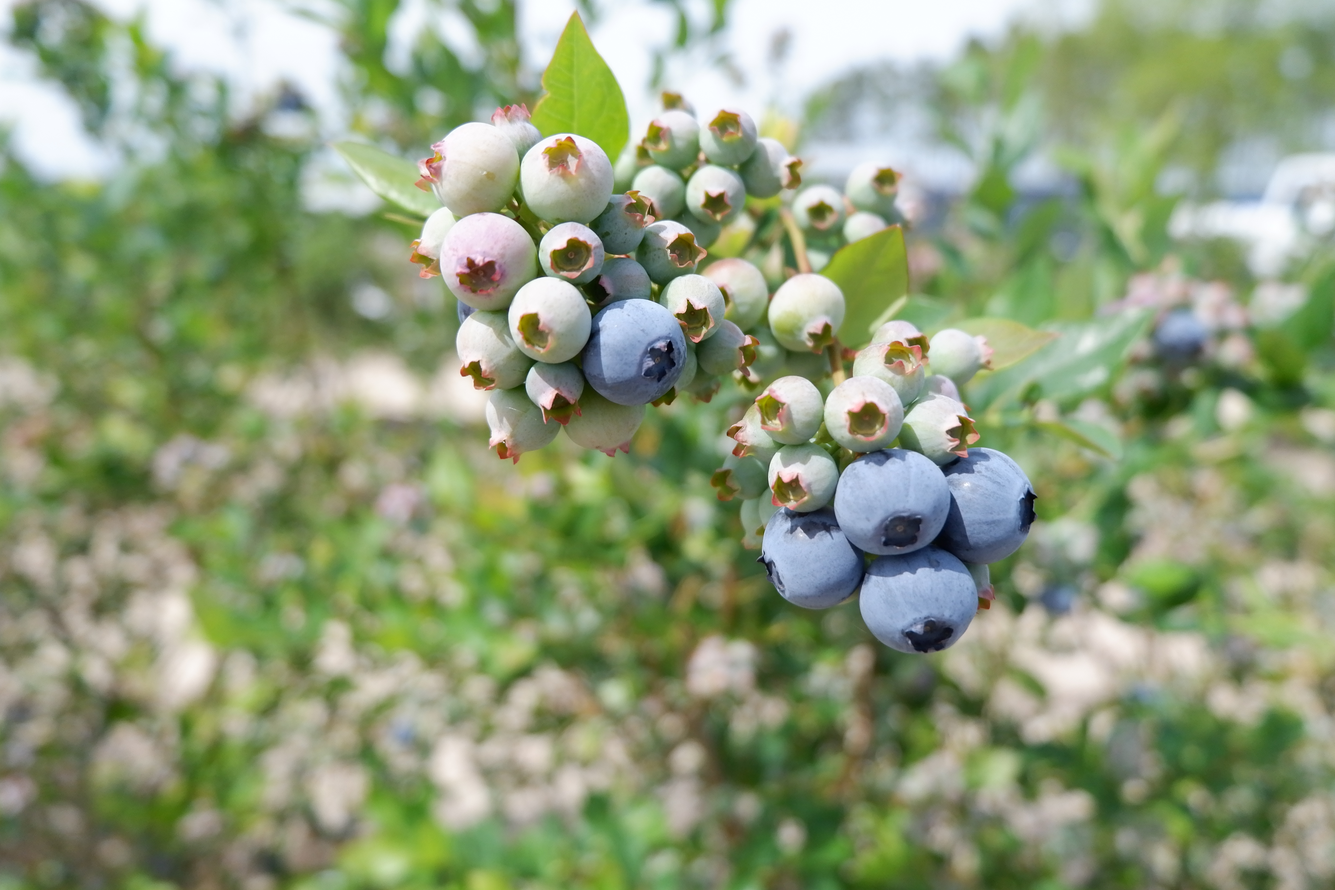Immature: (419, 125, 516, 214), (443, 215, 535, 308), (523, 136, 611, 220), (510, 280, 589, 362), (770, 275, 845, 351), (568, 382, 643, 454), (458, 312, 530, 387), (827, 378, 902, 449), (486, 387, 556, 461), (856, 336, 927, 406), (902, 399, 978, 460), (702, 259, 767, 327), (770, 446, 837, 510), (759, 378, 822, 443), (664, 275, 725, 340), (591, 192, 652, 252), (639, 222, 702, 280), (792, 183, 849, 245), (541, 222, 602, 279), (740, 141, 800, 196), (700, 111, 758, 167), (527, 362, 583, 419), (930, 331, 992, 381), (688, 166, 744, 219), (696, 321, 752, 374), (645, 112, 698, 167), (413, 210, 457, 274), (847, 164, 902, 214), (632, 168, 685, 219), (593, 256, 653, 300), (730, 404, 775, 460), (714, 454, 768, 500), (494, 104, 538, 156), (838, 211, 889, 249), (678, 206, 720, 249), (873, 323, 928, 349), (754, 487, 783, 536), (738, 497, 764, 550), (916, 376, 960, 401)
Mature: (863, 549, 975, 651), (838, 450, 947, 553), (939, 450, 1034, 563), (584, 299, 687, 401), (762, 511, 865, 608), (970, 565, 993, 608), (455, 298, 483, 326)
